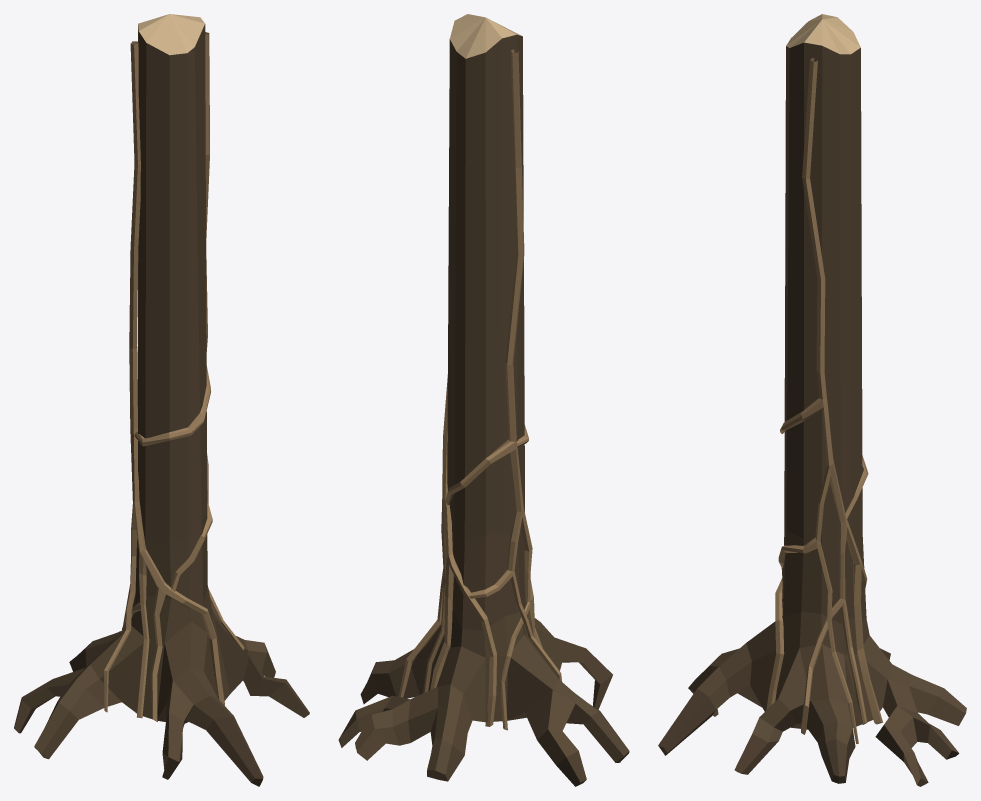
File: SM_Env_Tree_Base_01.fbx
The picture shows the model from 3 angles, left to right: view 1: azimuth 30°, elevation 25°; view 2: azimuth 150°, elevation 25°; view 3: azimuth 270°, elevation 25°; orthographic projection.
Parts seen in each view (by area): view 1: SM_Env_Tree_Base_01; view 2: SM_Env_Tree_Base_01; view 3: SM_Env_Tree_Base_01.
Part boxes in pixels (left/top/right/bottom): SM_Env_Tree_Base_01: left=14, top=14, right=309, bottom=786; SM_Env_Tree_Base_01: left=338, top=14, right=629, bottom=786; SM_Env_Tree_Base_01: left=658, top=14, right=966, bottom=786.
Size of the model in its own units: 3.01 by 8.19 by 3.14.
